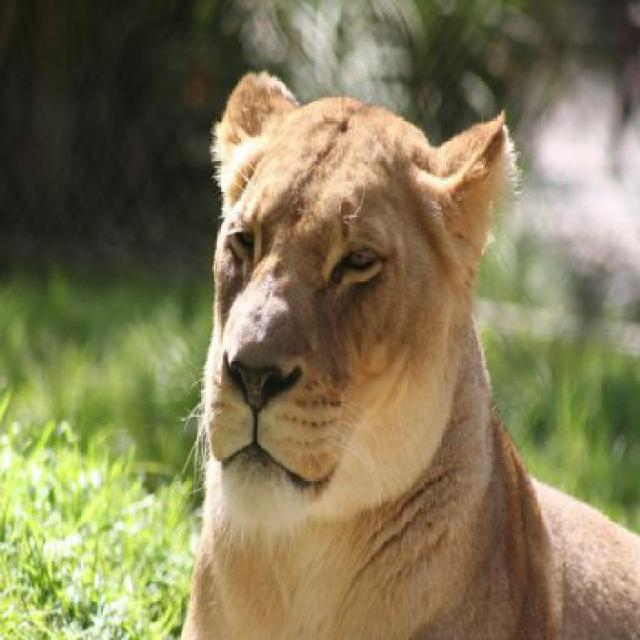Lion: (178, 56, 638, 638)
